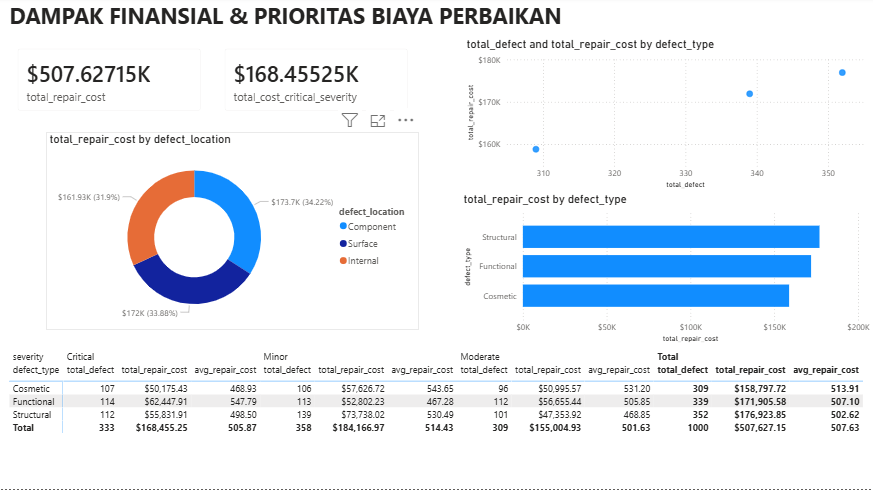

The page's visual inventory and layout, read from the dashboard file:
{"tool":"powerbi","page":{"name":"Financial Impact & Cost Analysis","canvas":[1280,720],"ordinal":2},"visuals":[{"type":"textbox","box":[10.1,0,843.3,58.8],"z":0},{"type":"cardVisual","fields":{"Data":["defect_d1.total_repair_cost"]},"box":[10.1,58.8,302.4,126],"z":1000},{"type":"cardVisual","fields":{"Data":["defect_d1.total_cost_critical_severity"]},"box":[312.4,58.8,302.4,126],"z":2000},{"type":"barChart","fields":{"Y":["defect_d1.total_repair_cost"],"Category":["defect_d1.defect_type"]},"box":[675.3,285.6,604.7,225.1],"z":3000},{"type":"donutChart","fields":{"Y":["defect_d1.total_repair_cost"],"Category":["defect_d1.defect_location"]},"box":[68.9,198.2,545.9,288.9],"z":4000},{"type":"scatterChart","fields":{"X":["defect_d1.total_defect"],"Y":["defect_d1.total_repair_cost"],"Category":["defect_d1.defect_type"]},"box":[678.6,58.8,601.4,226.8],"z":5000},{"type":"pivotTable","fields":{"Rows":["defect_d1.defect_type"],"Values":["defect_d1.total_defect","defect_d1.total_repair_cost","defect_d1.avg_repair_cost"],"Columns":["defect_d1.severity"]},"box":[10.1,510.7,1269.9,194.9],"z":6000}]}

Visuals, with their boxes in screenshot pixels (x1, y1, x2, y2), scaled from the page's 1280x720 canvas onto the 873x490 screenshot:
textbox: bbox=(7, 0, 582, 40)
cardVisual - defect_d1.total_repair_cost: bbox=(7, 40, 213, 126)
cardVisual - defect_d1.total_cost_critical_severity: bbox=(213, 40, 419, 126)
barChart - defect_d1.total_repair_cost x defect_d1.defect_type: bbox=(461, 194, 872, 348)
donutChart - defect_d1.total_repair_cost x defect_d1.defect_location: bbox=(47, 135, 419, 331)
scatterChart - defect_d1.total_defect x defect_d1.total_repair_cost: bbox=(463, 40, 872, 194)
pivotTable - defect_d1.defect_type x defect_d1.total_defect: bbox=(7, 348, 872, 480)
